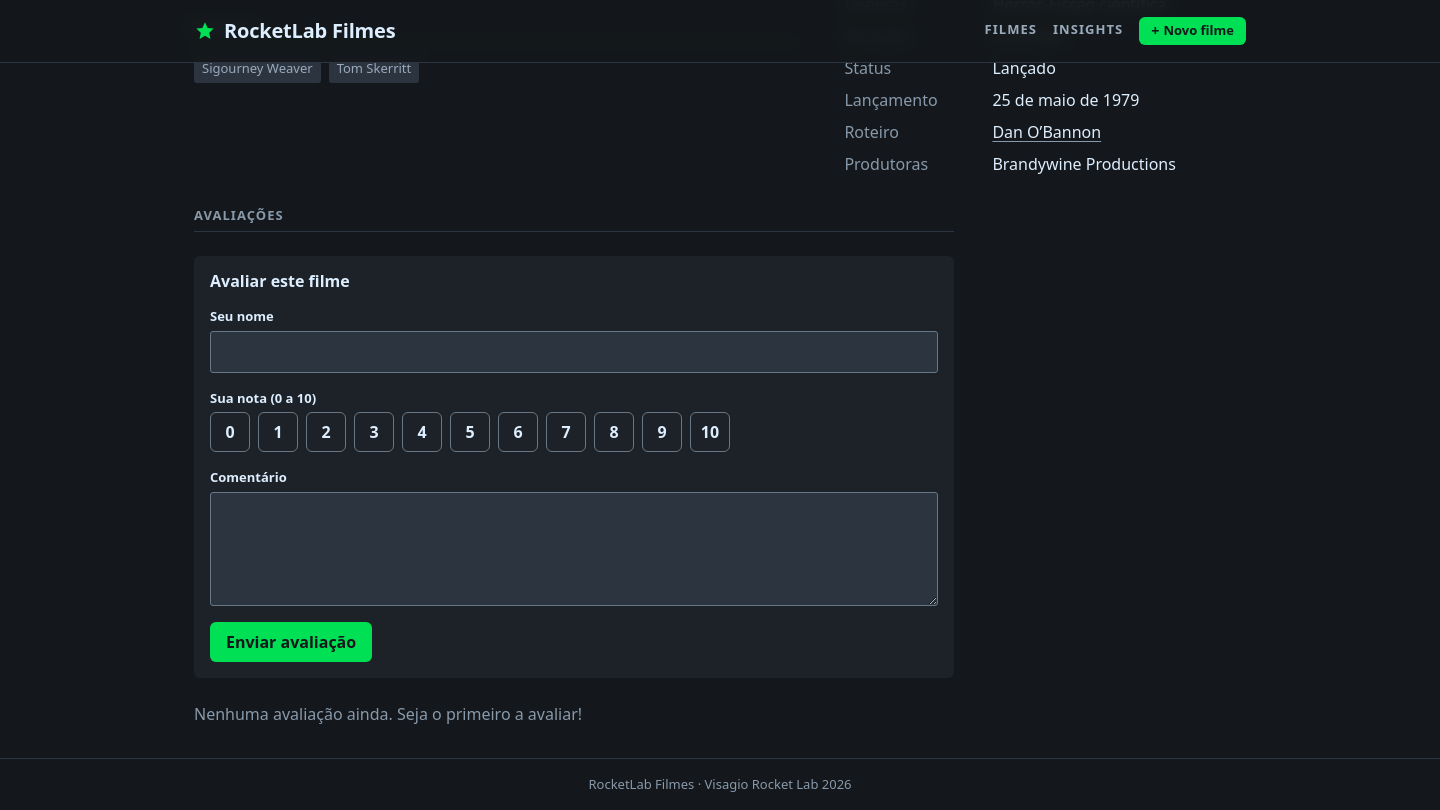
Test case: MovieDetailPage — nova avaliação › valida os campos antes de enviar
The image size is (1440, 810).
(page scrolled)
Click the button "Enviar avaliação".
click(291, 642)  # box 210,622 -> 372,662
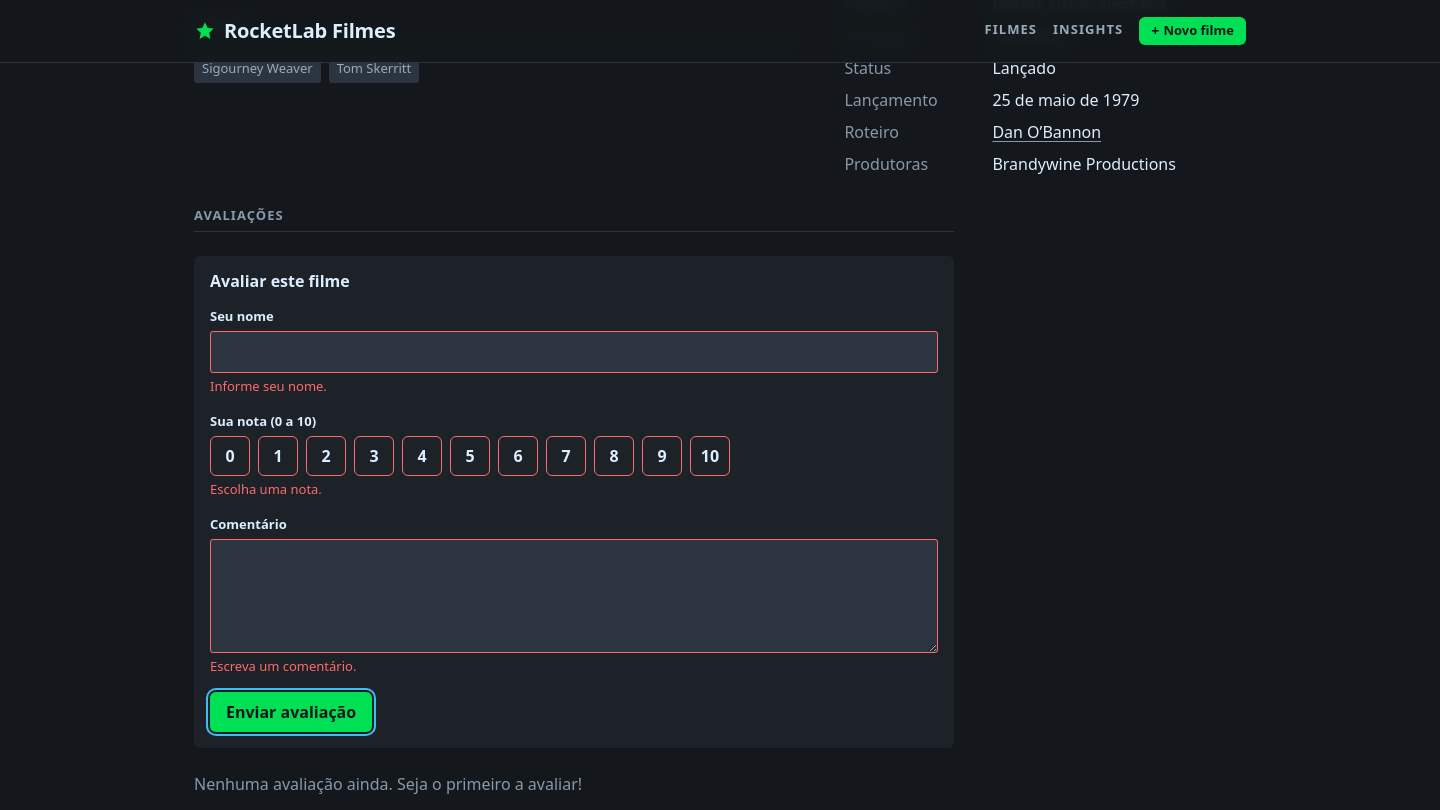
Expected: the text "Informe seu nome." is shown, 210,377 -> 327,395
Expected: the text "Escolha uma nota." is shown, 210,480 -> 322,498
Expected: the text "Escreva um comentário." is shown, 210,657 -> 356,675
